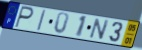0: (52, 12, 70, 35)
1: (74, 16, 88, 38)
3: (107, 22, 124, 43)
I: (35, 9, 47, 32)
N: (88, 17, 111, 40)
P: (13, 5, 35, 30)
